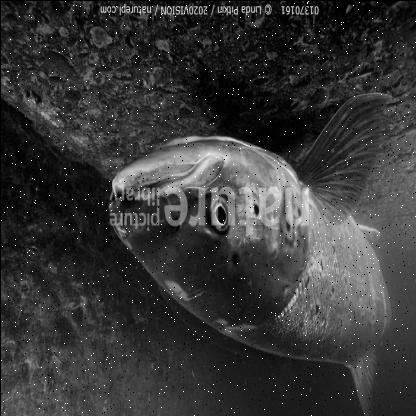fish: (108, 90, 404, 414)
